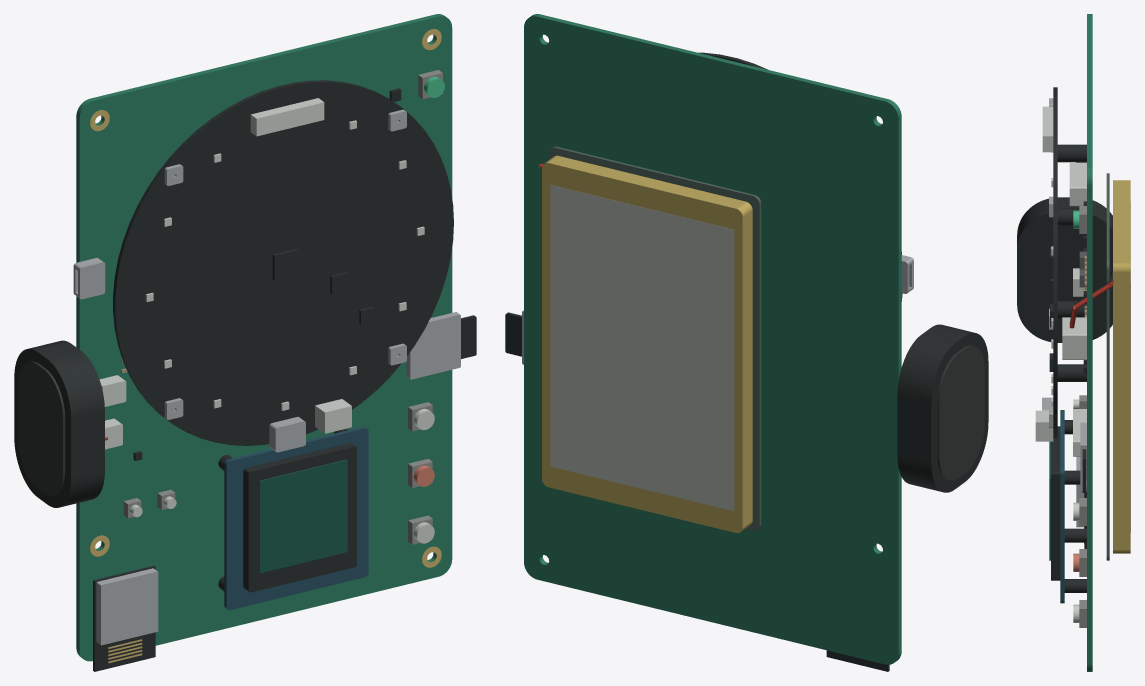
File: Fovea-B0-assembly.glb
3 renders of one model, left to right at view 1: azimuth 30°, elevation 25°; view 2: azimuth 150°, elevation 25°; view 3: azimuth 270°, elevation 25°, orthographic. The views are drawn at different scales.
Visible parts, largest first — view 1: audio_array_100mm, main_pcb_110x158, display_glass, side_speaker_41x29x10, display_carrier, display_bezel, speaker_cone, ESP32_shield, microSD_socket, ESP32_module, array_logic_socket, USB_C_charge_program (+4 smaller); view 2: main_pcb_110x158, battery_label, battery_91x59x5, side_speaker_41x29x10, speaker_cone, battery_insulation, microSD_card; view 3: side_speaker_41x29x10, battery_91x59x5, main_pcb_110x158, audio_array_100mm, battery_insulation, display_bezel, battery_socket, display_carrier, audio_harness_socket, array_support_1, array_logic_socket, array_speaker_socket (+17 smaller).
Part boxes in pixels (x1=…): audio_array_100mm: x1=113, y1=80, x2=453, y2=445; main_pcb_110x158: x1=76, y1=14, x2=452, y2=661; display_glass: x1=259, y1=459, x2=347, y2=573; side_speaker_41x29x10: x1=14, y1=340, x2=104, y2=507; display_carrier: x1=224, y1=426, x2=368, y2=610; display_bezel: x1=243, y1=443, x2=356, y2=592; speaker_cone: x1=18, y1=361, x2=65, y2=495; ESP32_shield: x1=96, y1=568, x2=158, y2=645; microSD_socket: x1=406, y1=312, x2=460, y2=379; ESP32_module: x1=93, y1=565, x2=155, y2=671; array_logic_socket: x1=250, y1=98, x2=324, y2=136; USB_C_charge_program: x1=73, y1=257, x2=105, y2=299; main_pcb_110x158: x1=524, y1=14, x2=901, y2=664; battery_label: x1=550, y1=185, x2=734, y2=510; battery_91x59x5: x1=542, y1=155, x2=752, y2=533; side_speaker_41x29x10: x1=897, y1=324, x2=988, y2=492; speaker_cone: x1=937, y1=345, x2=984, y2=480; battery_insulation: x1=548, y1=146, x2=761, y2=531; microSD_card: x1=505, y1=312, x2=521, y2=356; side_speaker_41x29x10: x1=1017, y1=197, x2=1112, y2=342; battery_91x59x5: x1=1113, y1=180, x2=1130, y2=553; main_pcb_110x158: x1=1087, y1=14, x2=1092, y2=671; audio_array_100mm: x1=1053, y1=87, x2=1057, y2=438; battery_insulation: x1=1106, y1=173, x2=1109, y2=560; display_bezel: x1=1051, y1=426, x2=1060, y2=580; battery_socket: x1=1062, y1=317, x2=1086, y2=359; display_carrier: x1=1060, y1=410, x2=1064, y2=603; audio_harness_socket: x1=1069, y1=163, x2=1086, y2=206; array_support_1: x1=1057, y1=144, x2=1086, y2=162; array_logic_socket: x1=1042, y1=106, x2=1053, y2=152; array_speaker_socket: x1=1035, y1=410, x2=1053, y2=441.
Size of the model in its own units: 0.1311 by 0.1608 by 0.0324.
